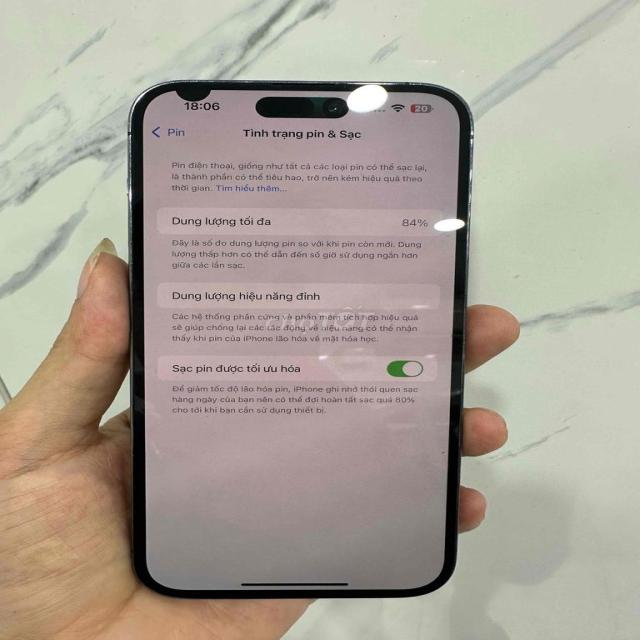gen_14: (120, 71, 472, 609)
